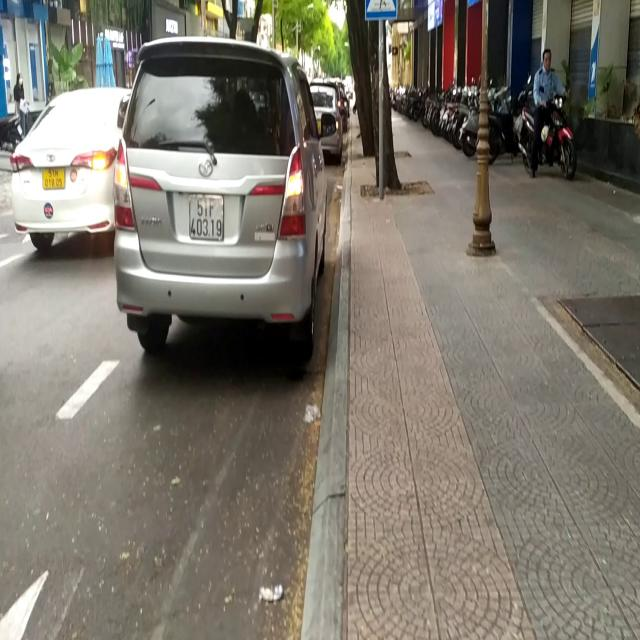bien_trang: (184, 188, 227, 248)
bien_vang: (38, 168, 66, 190)
